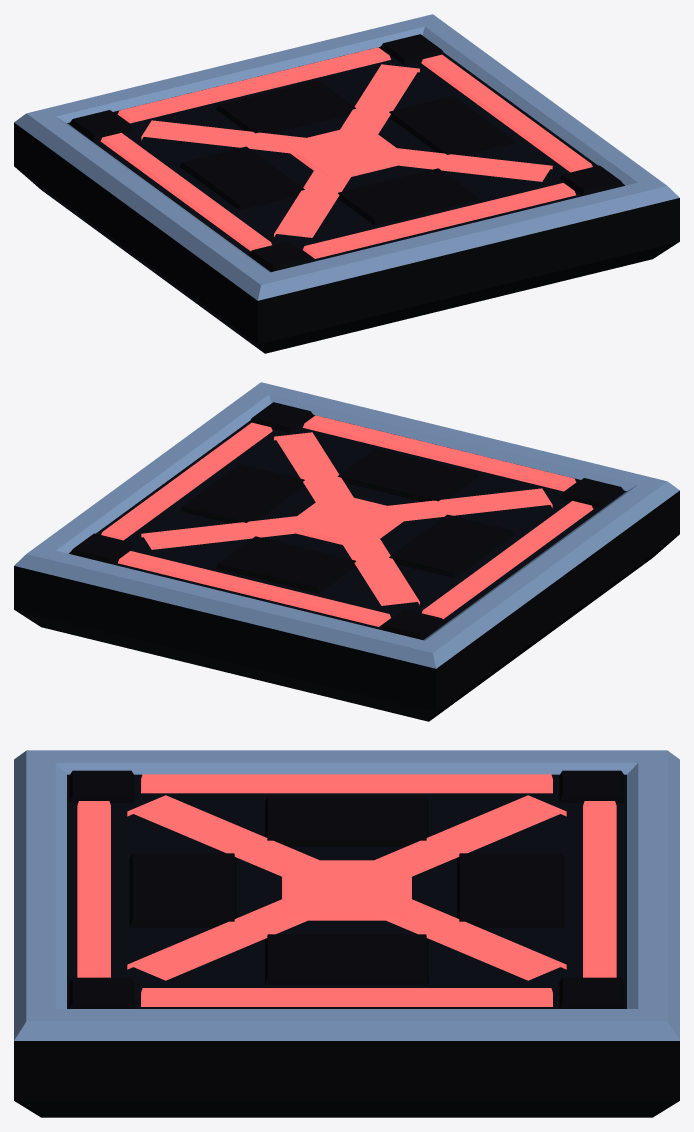
File: SM_ArenaTile_06_RingCollapse.glb
3 views of the same model, one above another, from view 1: azimuth 30°, elevation 25°; view 2: azimuth 150°, elevation 25°; view 3: azimuth 270°, elevation 25° (orthographic). The views are drawn at different scales.
Visible parts, largest first — view 1: Part_MAT_DarkNeutral, Part_MAT_LightTrim, Part_EMI_DangerRed, Part_MAT_AltNeutral; view 2: Part_MAT_DarkNeutral, Part_MAT_LightTrim, Part_EMI_DangerRed, Part_MAT_AltNeutral; view 3: Part_MAT_DarkNeutral, Part_MAT_LightTrim, Part_EMI_DangerRed, Part_MAT_AltNeutral.
Boxes of the visible parts, x1=… form: Part_MAT_DarkNeutral: x1=14, y1=34, x2=679, y2=353; Part_MAT_LightTrim: x1=14, y1=14, x2=679, y2=300; Part_EMI_DangerRed: x1=100, y1=47, x2=592, y2=258; Part_MAT_AltNeutral: x1=67, y1=46, x2=624, y2=271; Part_MAT_DarkNeutral: x1=14, y1=402, x2=679, y2=721; Part_MAT_LightTrim: x1=14, y1=382, x2=679, y2=668; Part_EMI_DangerRed: x1=101, y1=415, x2=593, y2=626; Part_MAT_AltNeutral: x1=69, y1=414, x2=626, y2=639; Part_MAT_DarkNeutral: x1=14, y1=770, x2=679, y2=1117; Part_MAT_LightTrim: x1=14, y1=750, x2=679, y2=1040; Part_EMI_DangerRed: x1=77, y1=774, x2=616, y2=1006; Part_MAT_AltNeutral: x1=67, y1=774, x2=626, y2=1008.
Bounding box in the file's own units: 11.8 × 2 × 11.8.
4 materials, 4 textured.
